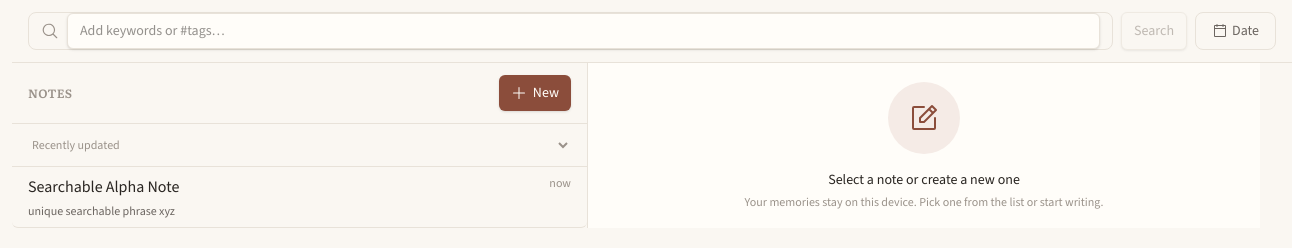
Test case: user flows (integration) › finds notes via omnibox keyword
Type "searchable" into the field named "Search notes".
click(584, 31); type("searchable")  # box [67,13,1100,49]
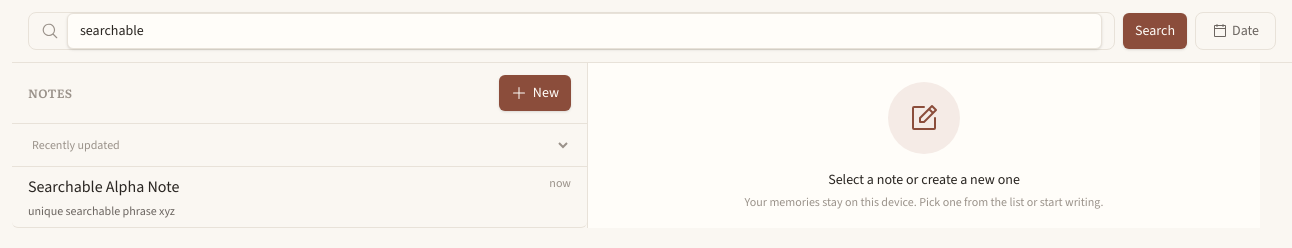
Press Enter in the field named "Search notes", box [67,13,1102,49]
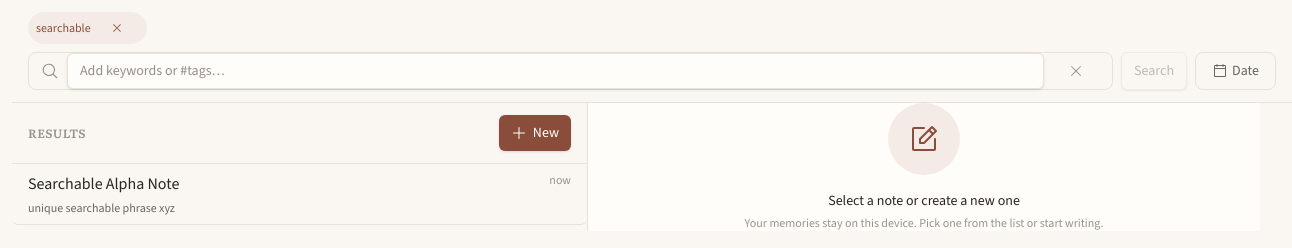
Check: the text "Searchable Alpha Note" is shown, box [28,172,179,196]
Check: the heading "Results" is shown, box [28,125,86,141]
Check: the text "searchable" is shown, box [28,12,147,44]
